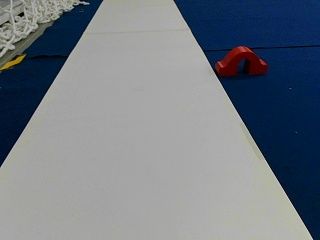bridge: (217, 46, 266, 74)
